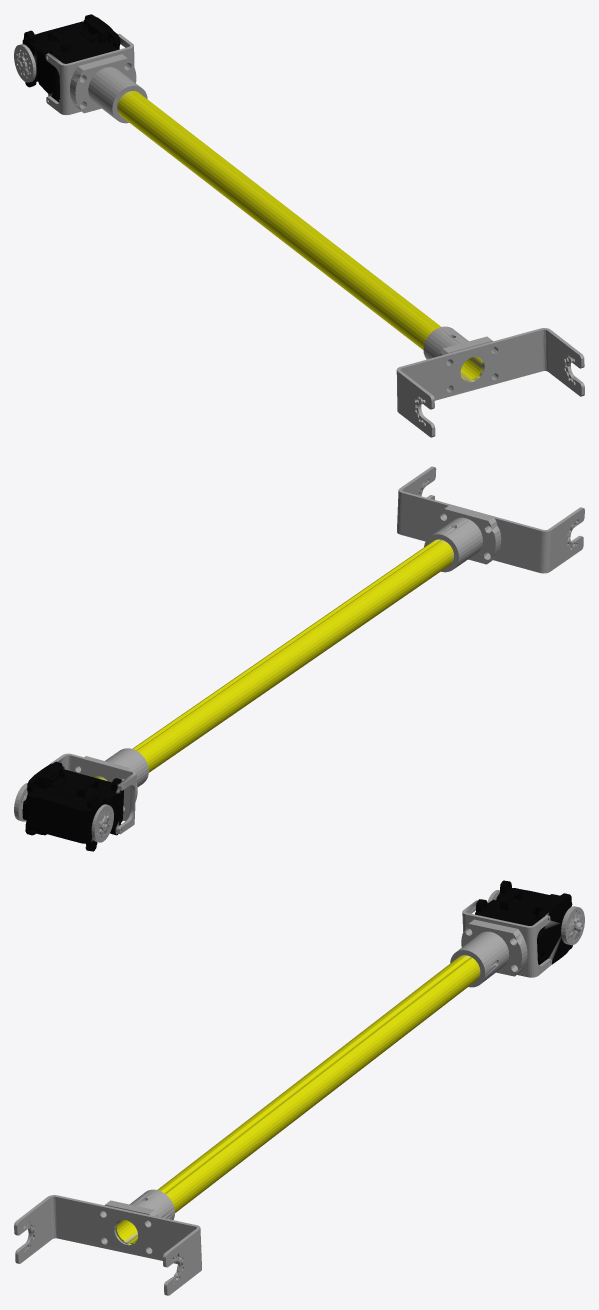
Rendered from arm_upper_mini.dae.
The picture shows the model from 3 angles, top to bottom: view 1: azimuth 30°, elevation 25°; view 2: azimuth 150°, elevation 25°; view 3: azimuth 330°, elevation 25°; orthographic projection.
Visible parts, largest first — view 1: node; view 2: node; view 3: node.
Boxes of the visible parts, bbox=[...] form: node: bbox=[14, 14, 584, 437]; node: bbox=[14, 466, 584, 851]; node: bbox=[14, 880, 584, 1295].
Size of the model in its own units: 9.59 by 4.23 by 49.12.
